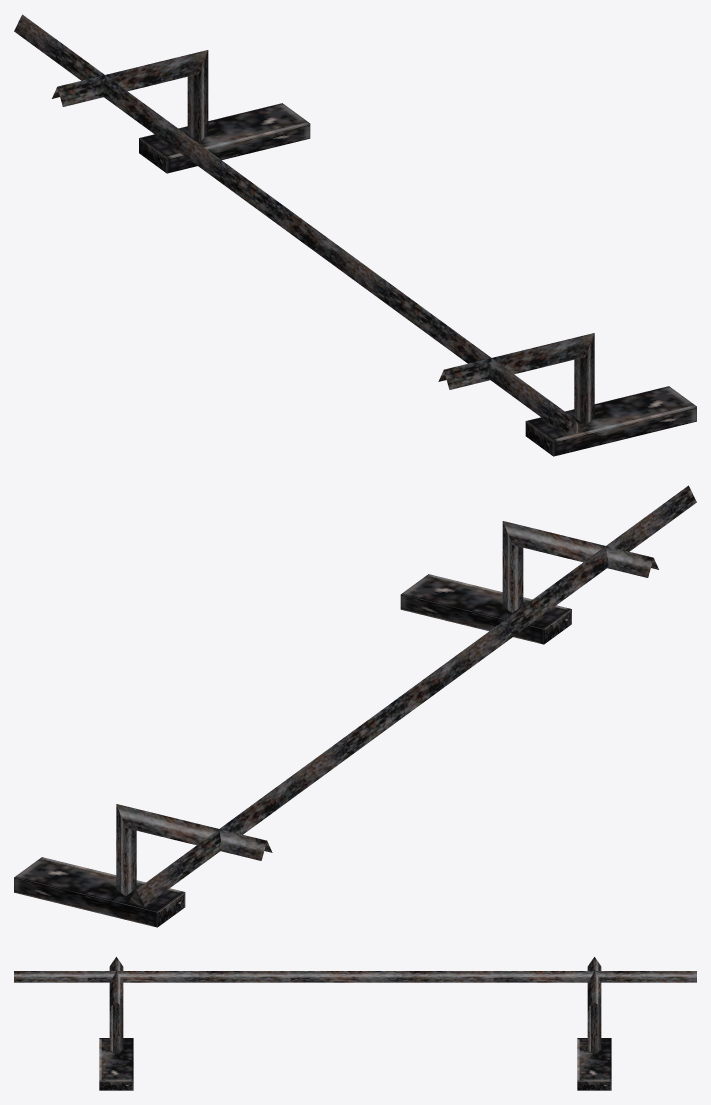
Rendered from windowbars_cap_right.fbx.
The picture shows the model from 3 angles, top to bottom: view 1: azimuth 30°, elevation 25°; view 2: azimuth 150°, elevation 25°; view 3: azimuth 270°, elevation 25°; orthographic projection. The views are drawn at different scales.
Parts seen in each view (by area): view 1: mesh_2, mesh_0, mesh_3, mesh_4, mesh_1; view 2: mesh_2, mesh_3, mesh_0, mesh_1, mesh_4; view 3: mesh_2, mesh_0, mesh_3, mesh_1, mesh_4.
Part boxes in pixels (left/top/right/bottom): mesh_2: left=14, top=14, right=582, bottom=435; mesh_0: left=525, top=386, right=696, bottom=456; mesh_3: left=139, top=103, right=310, bottom=173; mesh_4: left=52, top=50, right=208, bottom=142; mesh_1: left=438, top=333, right=594, bottom=425; mesh_2: left=128, top=485, right=696, bottom=906; mesh_3: left=14, top=857, right=185, bottom=927; mesh_0: left=400, top=574, right=571, bottom=644; mesh_1: left=502, top=521, right=658, bottom=613; mesh_4: left=116, top=804, right=272, bottom=896; mesh_2: left=14, top=971, right=696, bottom=982; mesh_0: left=99, top=1038, right=133, bottom=1090; mesh_3: left=577, top=1038, right=611, bottom=1090; mesh_1: left=109, top=957, right=123, bottom=1054; mesh_4: left=587, top=957, right=601, bottom=1054.
Bounding box in the file's own units: 50 × 20 × 200.
Materials: 1 (1 with a texture image).
